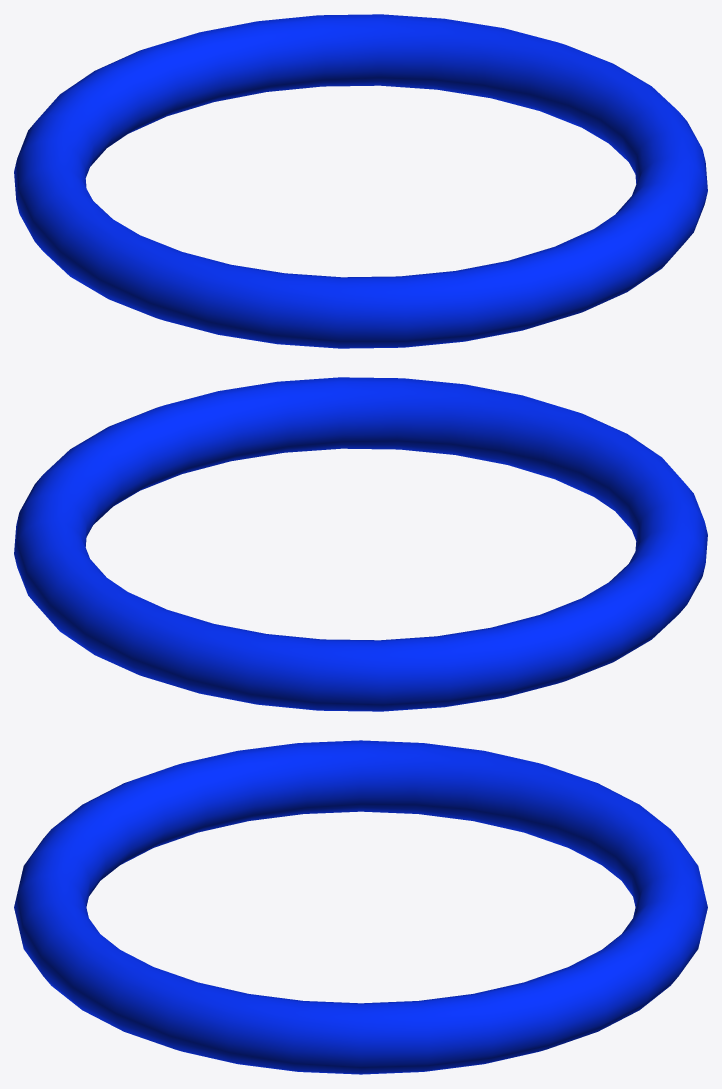
3 renders of one model, top to bottom at view 1: azimuth 30°, elevation 25°; view 2: azimuth 150°, elevation 25°; view 3: azimuth 270°, elevation 25°, orthographic.
Visible parts, largest first — view 1: Torus001; view 2: Torus001; view 3: Torus001.
Part boxes in pixels (bbox=[...]): Torus001: bbox=[14, 14, 707, 348]; Torus001: bbox=[14, 377, 707, 711]; Torus001: bbox=[14, 740, 707, 1074].
Size of the model in its own units: 70.03 by 7.19 by 70.03.
